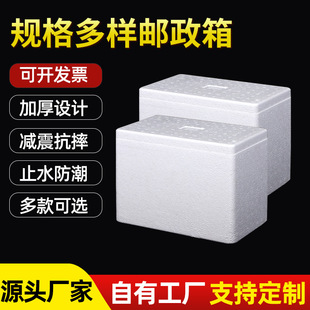泡沫箱: (116, 75, 290, 243)
